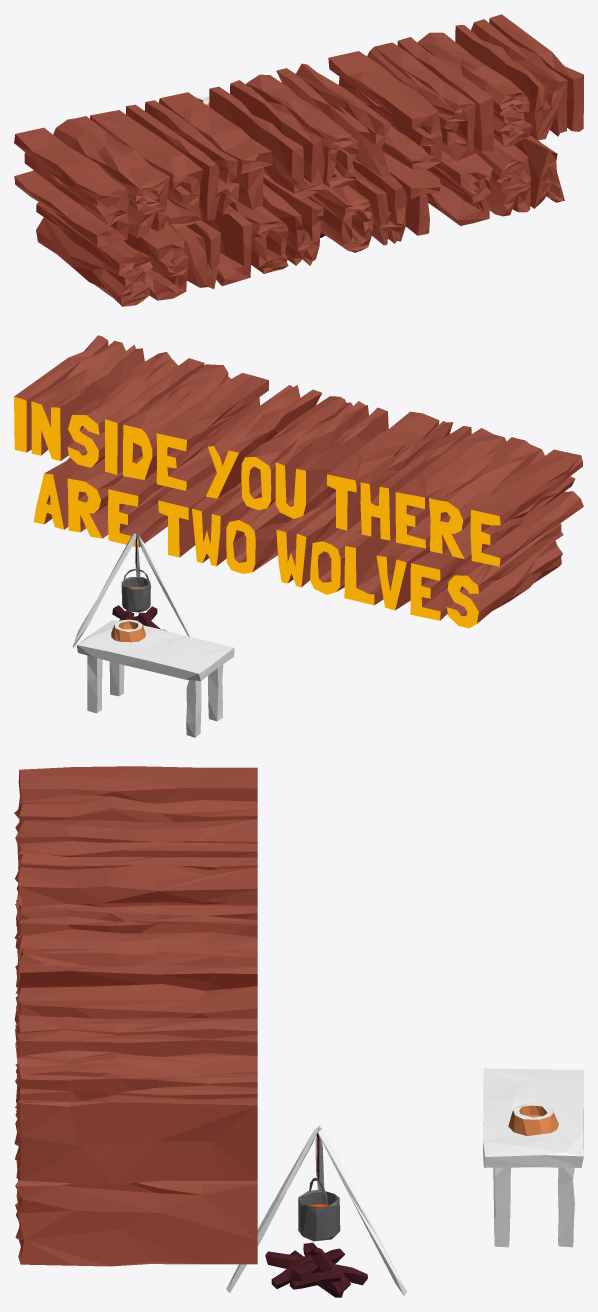
File: combined_env.fbx
The picture shows the model from 3 angles, top to bottom: view 1: azimuth 30°, elevation 25°; view 2: azimuth 150°, elevation 25°; view 3: azimuth 270°, elevation 25°; orthographic projection. The views are drawn at different scales.
Visible parts, largest first — view 1: bigletters_fbx; view 2: bigletters_fbx, table, stove, dogbowl; view 3: bigletters_fbx, table, stove, dogbowl.
Boxes of the visible parts, bbox=[...] form: bigletters_fbx: bbox=[14, 14, 583, 306]; bigletters_fbx: bbox=[14, 335, 583, 628]; table: bbox=[76, 620, 234, 737]; stove: bbox=[73, 532, 192, 647]; dogbowl: bbox=[111, 619, 145, 642]; bigletters_fbx: bbox=[14, 766, 257, 1266]; table: bbox=[483, 1068, 583, 1247]; stove: bbox=[226, 1125, 407, 1297]; dogbowl: bbox=[508, 1102, 558, 1135].
Size of what is drawn, in the model's own units: 804 by 307 by 564.
7 materials, 1 textured.
